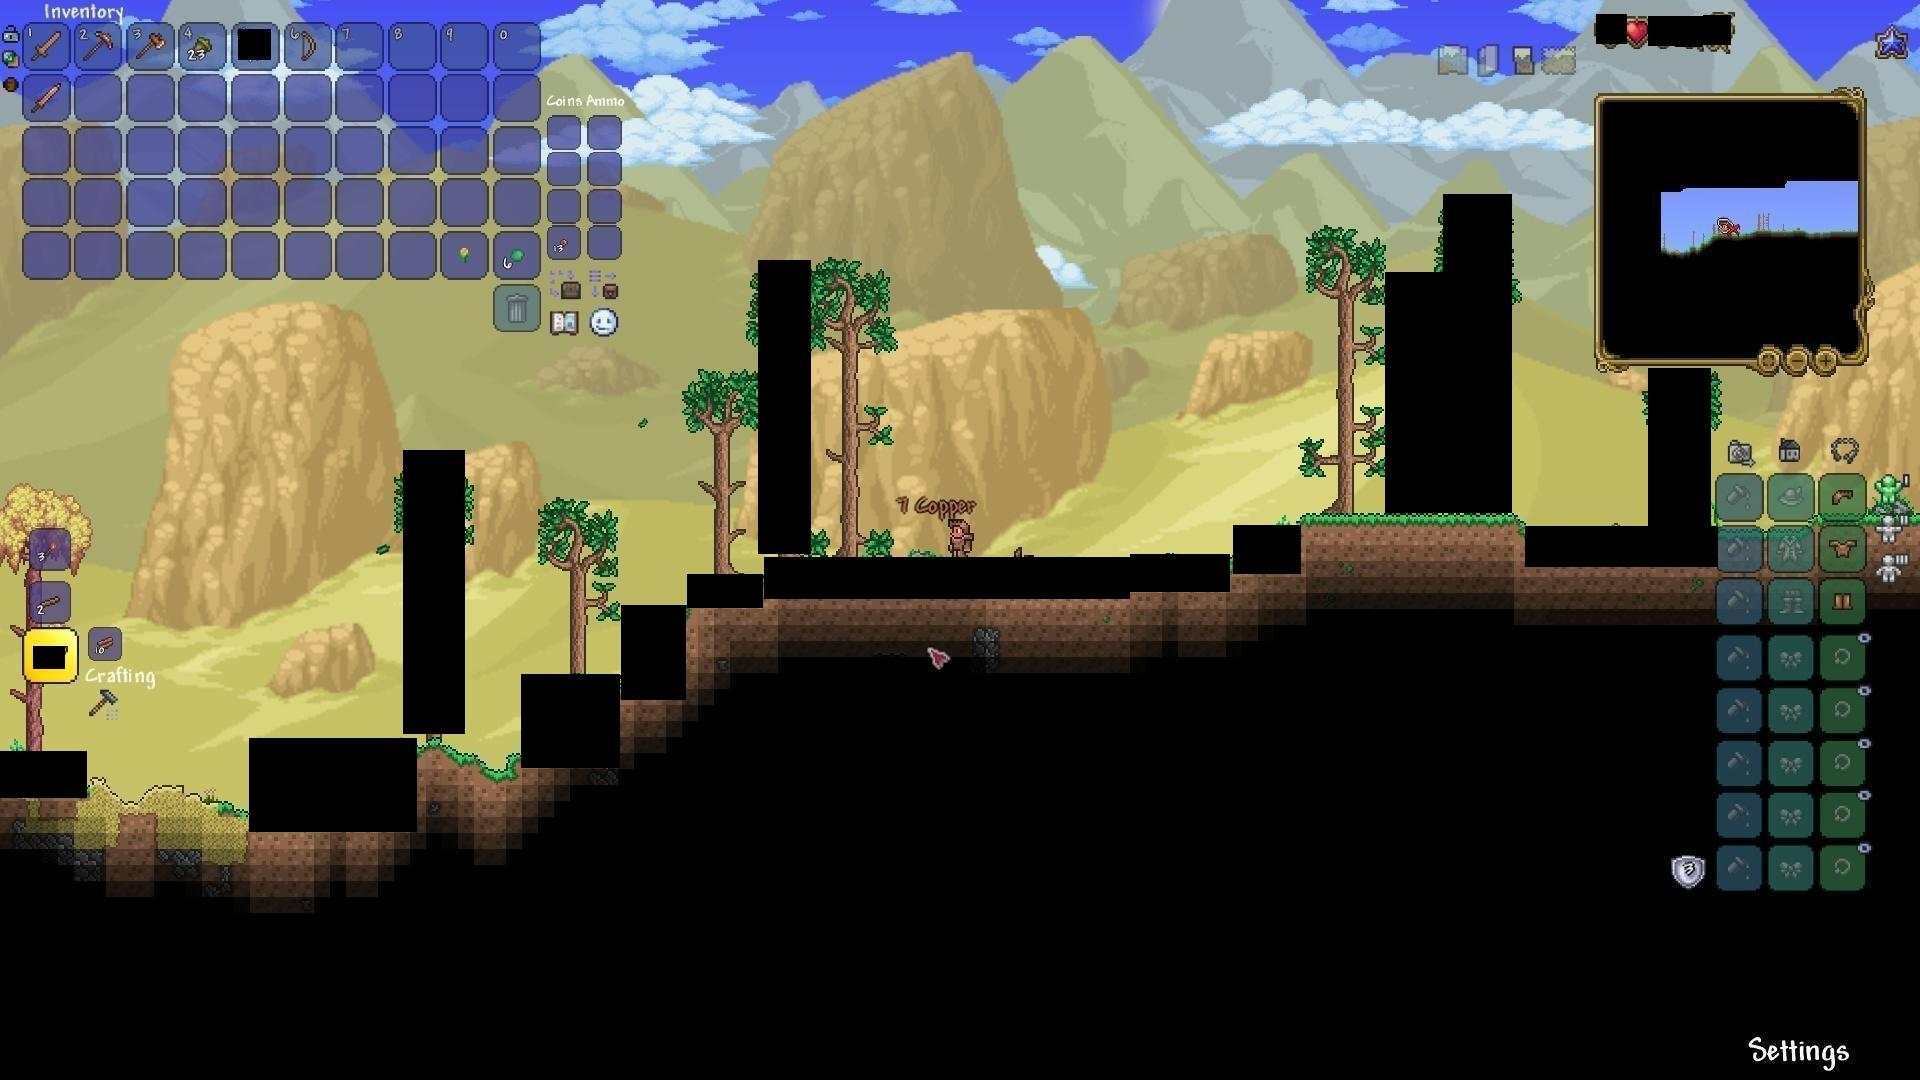breastplate: (1830, 537, 1859, 558)
dirt: (1302, 514, 1520, 566), (419, 738, 524, 782)
heart: (1625, 17, 1650, 45)
helmet: (1828, 483, 1859, 510)
legs: (1830, 588, 1855, 616)
tree: (1305, 214, 1379, 512), (822, 258, 886, 553), (688, 356, 756, 568), (542, 491, 616, 673)
wood: (88, 629, 120, 659)
